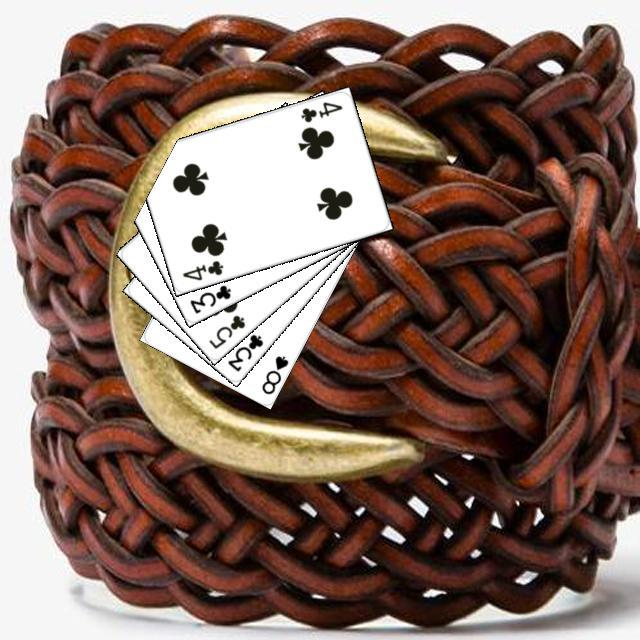3c: (222, 329, 265, 374), (185, 280, 233, 316)
4c: (296, 97, 344, 124), (177, 256, 225, 282)
5c: (204, 310, 247, 350)
8s: (257, 351, 290, 396)
